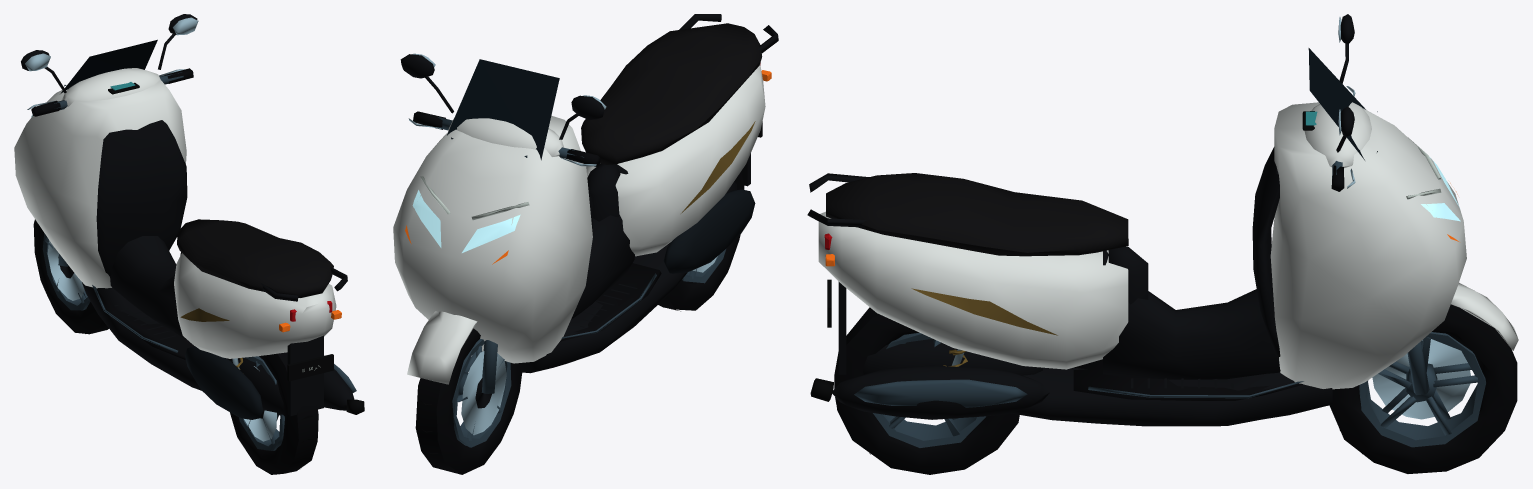
Rendered from maxi_scooter_pearl_lod1.glb.
3 views of the same model, side by side, from view 1: azimuth 30°, elevation 25°; view 2: azimuth 150°, elevation 25°; view 3: azimuth 270°, elevation 25° (orthographic). The views are drawn at different scales.
Visible parts, largest first — view 1: Body_Mesh, Wheel_Rear_Mesh, Steering_Pivot_Mesh, Wheel_Front_Mesh; view 2: Body_Mesh, Wheel_Front_Mesh, Steering_Pivot_Mesh, Wheel_Rear_Mesh, Headlights_Mesh; view 3: Body_Mesh, Wheel_Front_Mesh, Wheel_Rear_Mesh, Steering_Pivot_Mesh, Headlights_Mesh.
Part boxes in pixels (x1=…): Body_Mesh: x1=14, y1=39, x2=364, y2=419; Wheel_Rear_Mesh: x1=230, y1=352, x2=318, y2=474; Steering_Pivot_Mesh: x1=21, y1=14, x2=198, y2=266; Wheel_Front_Mesh: x1=33, y1=219, x2=108, y2=334; Body_Mesh: x1=393, y1=14, x2=778, y2=373; Wheel_Front_Mesh: x1=415, y1=328, x2=522, y2=474; Steering_Pivot_Mesh: x1=400, y1=53, x2=606, y2=393; Wheel_Rear_Mesh: x1=658, y1=171, x2=744, y2=311; Headlights_Mesh: x1=412, y1=176, x2=529, y2=252; Body_Mesh: x1=807, y1=48, x2=1466, y2=426; Wheel_Front_Mesh: x1=1329, y1=304, x2=1517, y2=473; Wheel_Rear_Mesh: x1=834, y1=307, x2=1019, y2=474; Steering_Pivot_Mesh: x1=1302, y1=14, x2=1518, y2=395; Headlights_Mesh: x1=1406, y1=137, x2=1460, y2=221.
Bounding box in the file's own units: 0.7179 × 1.23 × 1.95.
2 materials, 1 textured.
